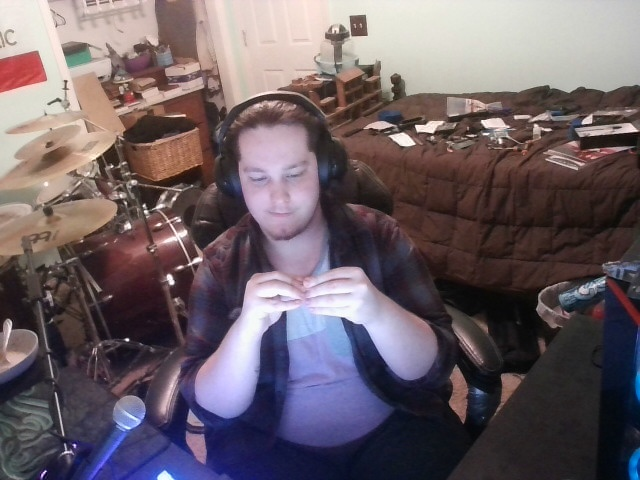more: (237, 258, 377, 335)
